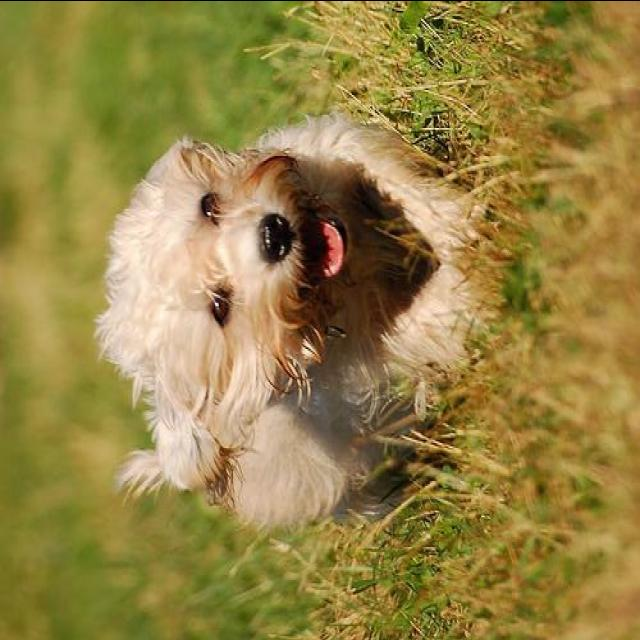dandie_dinmont: (94, 112, 484, 531)
